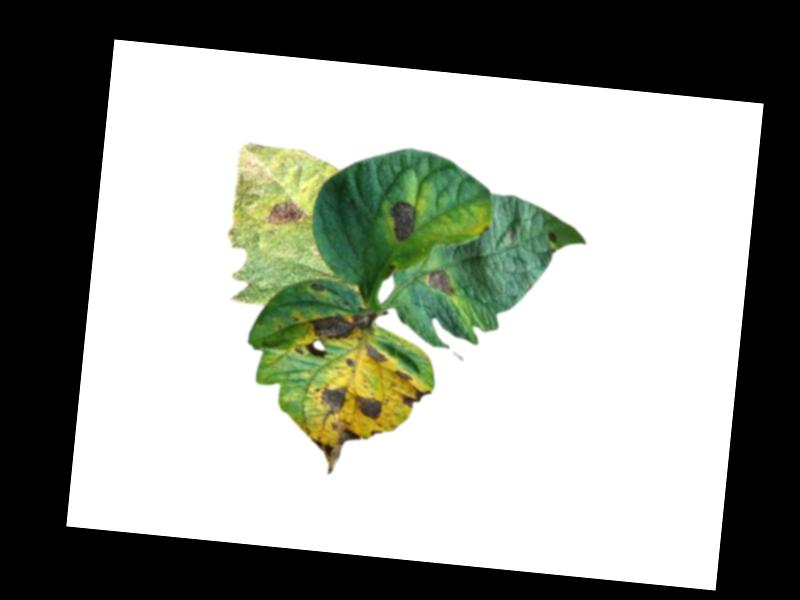Early_blight: (307, 415, 358, 477), (308, 303, 377, 344), (387, 197, 420, 243), (266, 197, 309, 229), (311, 381, 350, 416), (353, 391, 388, 421), (425, 265, 457, 296), (399, 385, 433, 411), (362, 341, 389, 365), (393, 368, 414, 381), (546, 231, 560, 243), (346, 356, 355, 366)
